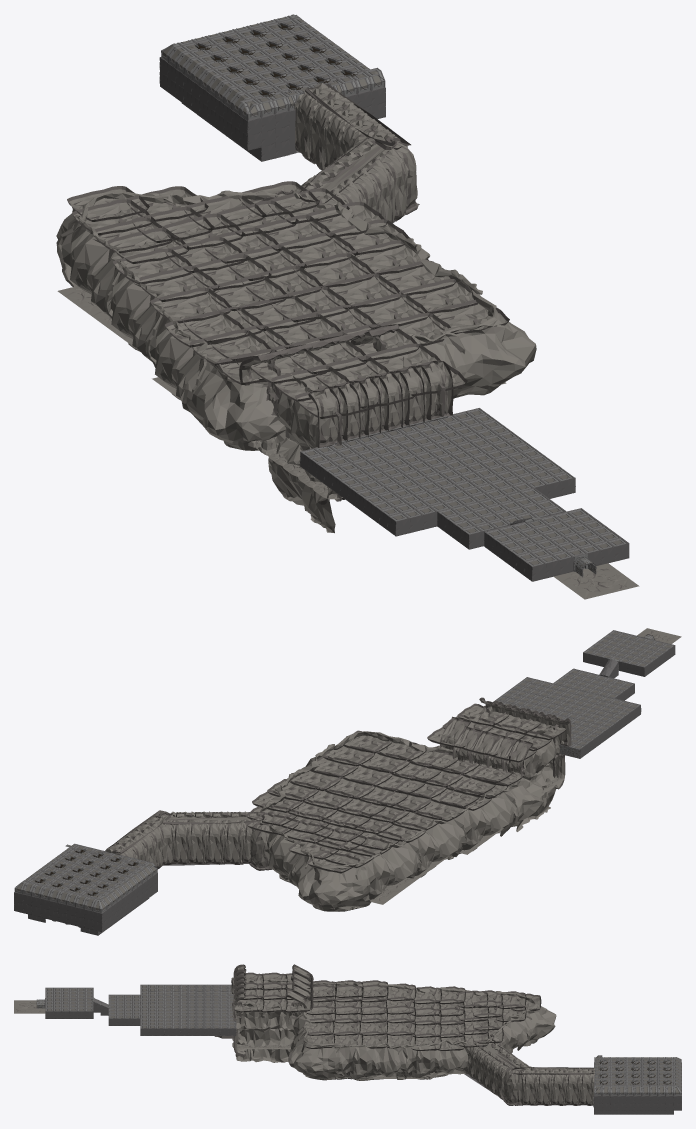
Rendered from Stage1.FBX.
3 views of the same model, one above another, from view 1: azimuth 30°, elevation 25°; view 2: azimuth 150°, elevation 25°; view 3: azimuth 270°, elevation 25° (orthographic). The views are drawn at different scales.
Parts seen in each view (by area): view 1: SM_Env_Cave_Background_Corner_01_DoubleSided1, SM_Env_Cave_Background_Corner_01_DoubleSided2, SM_Env_Cave_Background_01_DoubleSided6, SM_Env_Cave_Background_01_DoubleSided4, SM_Env_Cave_Background_01_DoubleSided3, SM_Env_Cave_Background_2, SM_Env_Cave_Background_01, SM_Env_CrackedRock_1, SM_Env_Cave_Roof_23, SM_Env_Cave_Roof_7, SM_Env_Cave_Curved_11, SM_Env_Cave_Roof_20 (+55 smaller); view 2: SM_Env_Cave_Background_Corner_01_DoubleSided3, SM_Env_Cave_Background_01_DoubleSided6, SM_Env_Cave_Background_01_DoubleSided3, SM_Env_Cave_Background_01_DoubleSided4, SM_Env_Cave_Background_01_DoubleSided7, SM_Env_Cave_Background_Corner_01_DoubleSided1, SM_Env_Cave_Background_01, SM_Env_Cave_Curved_01_DoubleSided3, SM_Env_Cave_Curved_Corner_01_DoubleSided, SM_Env_Cave_Curved_01_DoubleSided5, SM_Env_Cave_Curved_01_DoubleSided7, SM_Env_Cave_Background_2 (+46 smaller); view 3: SM_Env_Cave_Background_01_DoubleSided2, SM_Env_Cave_Background_01_DoubleSided5, SM_Env_Cave_Background_Corner_01_DoubleSided2, SM_Env_Cave_Background_02, SM_Env_Cave_Background_3, SM_Env_Cave_Background_Corner_01_DoubleSided3, SM_Env_Cave_Background_01_DoubleSided7, SM_Env_Cave_Curved_Corner_01_DoubleSided2, SM_Env_Cave_Curved_01_DoubleSided11, SM_Env_Cave_Curved_01_DoubleSided12, SM_Env_Cave_Curved_01_DoubleSided13, SM_Env_Cave_Curved_01_DoubleSided14 (+53 smaller).
Part boxes in pixels (bbox=[...]): SM_Env_Cave_Background_Corner_01_DoubleSided1: bbox=[180, 356, 286, 450]; SM_Env_Cave_Background_Corner_01_DoubleSided2: bbox=[441, 290, 536, 398]; SM_Env_Cave_Background_01_DoubleSided6: bbox=[61, 215, 122, 318]; SM_Env_Cave_Background_01_DoubleSided4: bbox=[111, 260, 164, 367]; SM_Env_Cave_Background_01_DoubleSided3: bbox=[145, 310, 207, 423]; SM_Env_Cave_Background_2: bbox=[268, 430, 335, 533]; SM_Env_Cave_Background_01: bbox=[276, 373, 335, 451]; SM_Env_CrackedRock_1: bbox=[554, 563, 639, 599]; SM_Env_Cave_Roof_23: bbox=[150, 287, 231, 323]; SM_Env_Cave_Roof_7: bbox=[399, 279, 478, 313]; SM_Env_Cave_Curved_11: bbox=[308, 386, 347, 447]; SM_Env_Cave_Roof_20: bbox=[292, 253, 374, 287]; SM_Env_Cave_Background_Corner_01_DoubleSided3: bbox=[288, 849, 370, 911]; SM_Env_Cave_Background_01_DoubleSided6: bbox=[351, 839, 421, 909]; SM_Env_Cave_Background_01_DoubleSided3: bbox=[447, 789, 517, 859]; SM_Env_Cave_Background_01_DoubleSided4: bbox=[402, 815, 466, 877]; SM_Env_Cave_Background_01_DoubleSided7: bbox=[264, 825, 310, 885]; SM_Env_Cave_Background_Corner_01_DoubleSided1: bbox=[493, 767, 543, 836]; SM_Env_Cave_Background_01: bbox=[521, 726, 560, 783]; SM_Env_Cave_Curved_01_DoubleSided3: bbox=[223, 819, 243, 864]; SM_Env_Cave_Curved_Corner_01_DoubleSided: bbox=[249, 822, 273, 870]; SM_Env_Cave_Curved_01_DoubleSided5: bbox=[205, 819, 225, 864]; SM_Env_Cave_Curved_01_DoubleSided7: bbox=[171, 819, 191, 864]; SM_Env_Cave_Background_2: bbox=[516, 763, 556, 831]; SM_Env_Cave_Background_01_DoubleSided2: bbox=[335, 1042, 407, 1080]; SM_Env_Cave_Background_01_DoubleSided5: bbox=[396, 1039, 470, 1079]; SM_Env_Cave_Background_Corner_01_DoubleSided2: bbox=[288, 1028, 344, 1080]; SM_Env_Cave_Background_02: bbox=[236, 1003, 298, 1047]; SM_Env_Cave_Background_3: bbox=[235, 1024, 296, 1062]; SM_Env_Cave_Background_Corner_01_DoubleSided3: bbox=[516, 993, 556, 1050]; SM_Env_Cave_Background_01_DoubleSided7: bbox=[492, 1011, 531, 1053]; SM_Env_Cave_Curved_Corner_01_DoubleSided2: bbox=[503, 1068, 522, 1105]; SM_Env_Cave_Curved_01_DoubleSided11: bbox=[521, 1070, 537, 1105]; SM_Env_Cave_Curved_01_DoubleSided12: bbox=[536, 1070, 551, 1105]; SM_Env_Cave_Curved_01_DoubleSided13: bbox=[550, 1070, 566, 1105]; SM_Env_Cave_Curved_01_DoubleSided14: bbox=[564, 1070, 580, 1105].
Size of the model in its own units: 16639 by 41981 by 5302.
